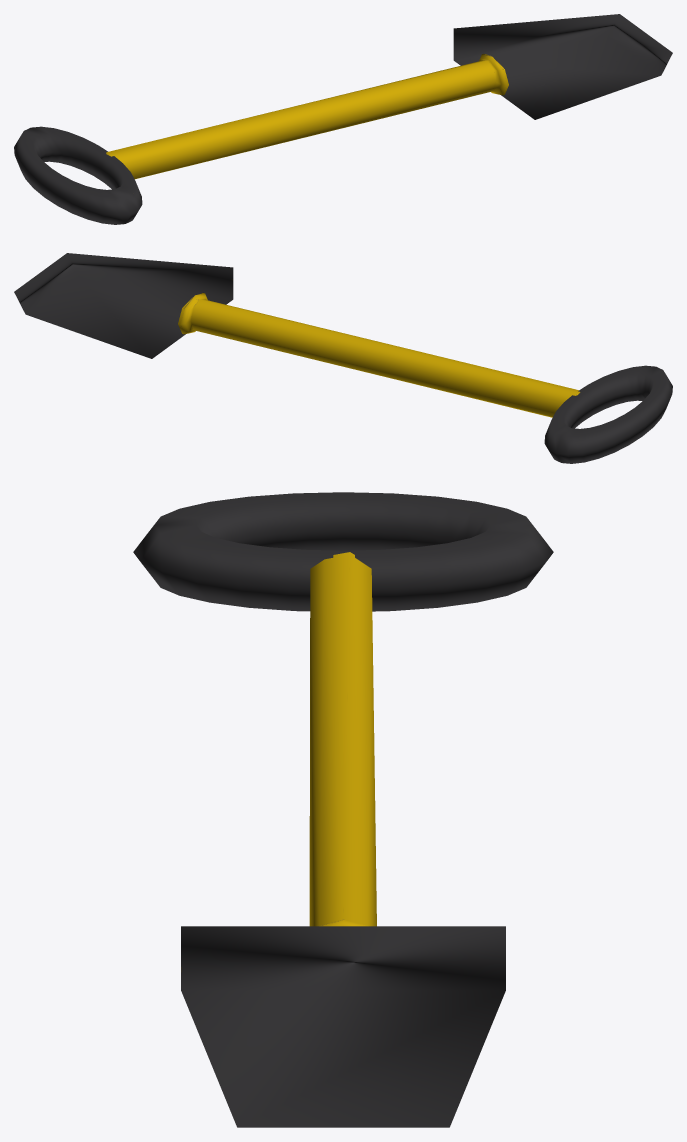
Rendered from shovel.fbx.
The picture shows the model from 3 angles, top to bottom: view 1: azimuth 30°, elevation 25°; view 2: azimuth 150°, elevation 25°; view 3: azimuth 270°, elevation 25°; orthographic projection. The views are drawn at different scales.
Parts seen in each view (by area): view 1: Cylinder; view 2: Cylinder; view 3: Cylinder.
Boxes of the visible parts, <box> form: Cylinder: <box>14,14,672,224</box>; Cylinder: <box>14,253,672,463</box>; Cylinder: <box>133,492,553,1127</box>.
Size of the model in its own units: 217 by 12.6 by 65.22.
1 material, 1 textured.
